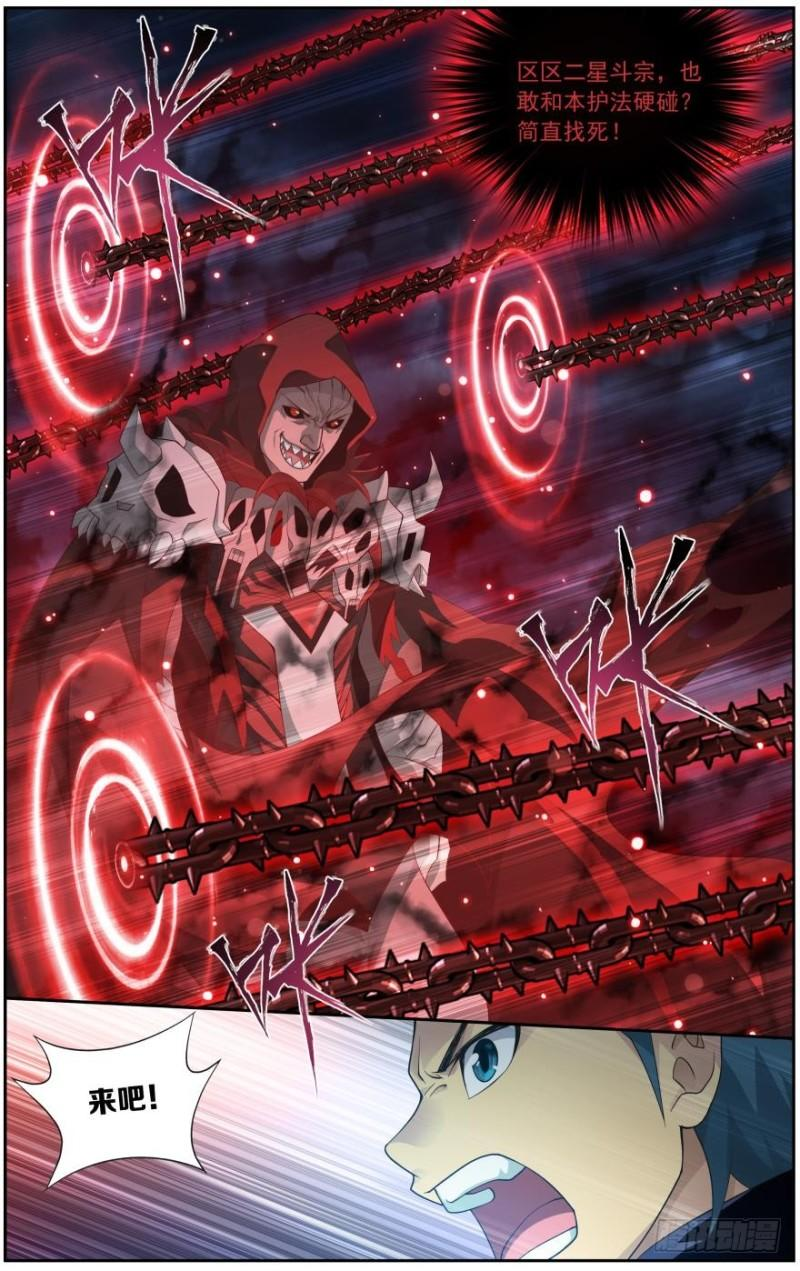boxBad: (426, 2, 798, 239)
boxBomb: (12, 1012, 231, 1192)
minBox: (0, 0, 798, 1045), (0, 985, 798, 1267)
